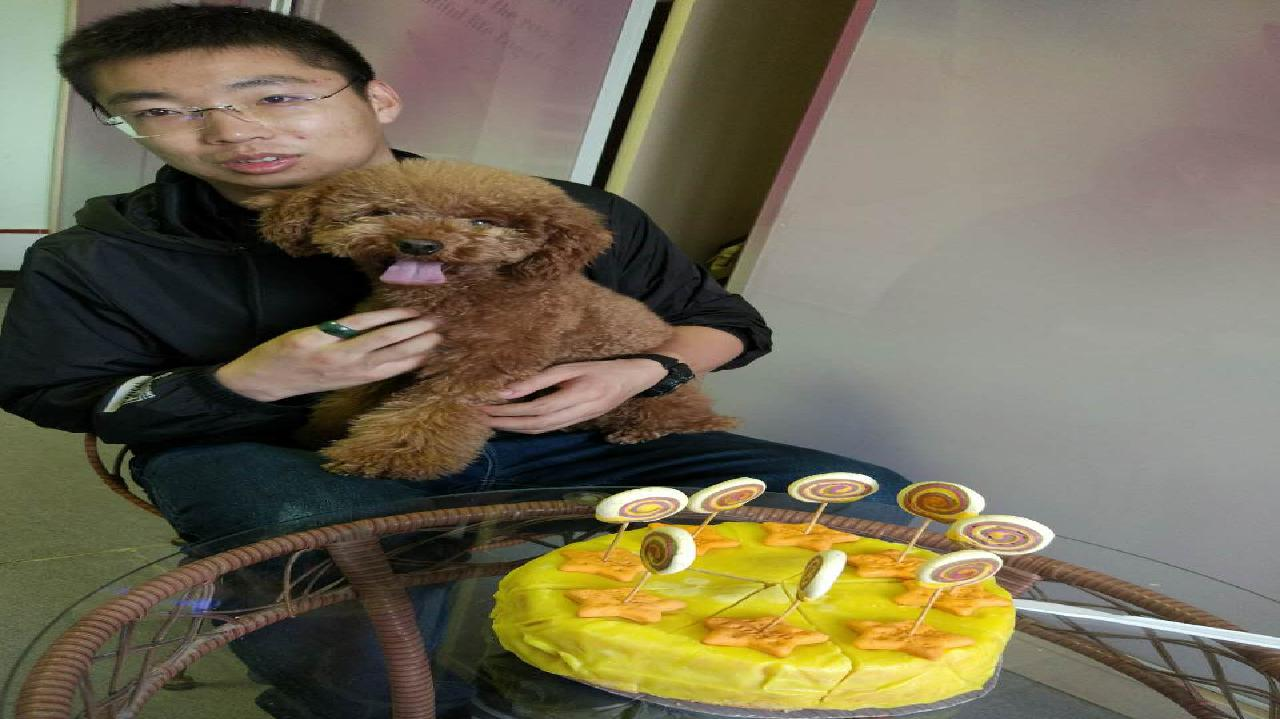zhuangzhuang: (275, 163, 675, 458)
